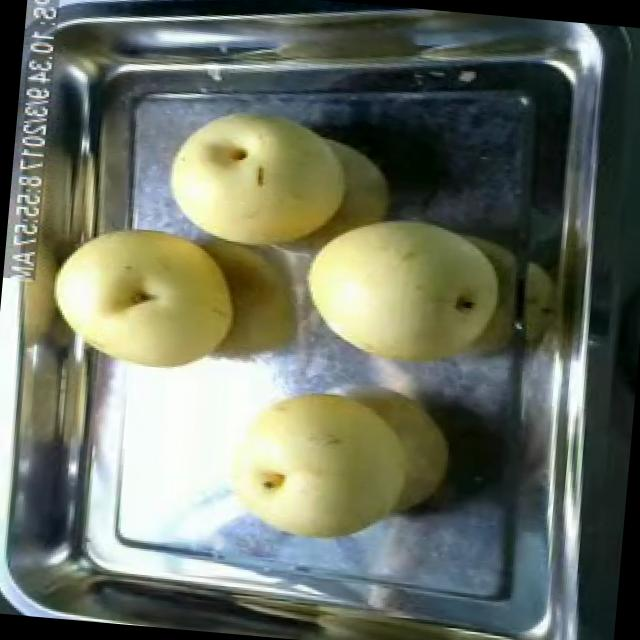Fruit: (212, 358, 464, 558), (283, 192, 519, 390), (147, 88, 374, 262), (34, 218, 258, 392)
